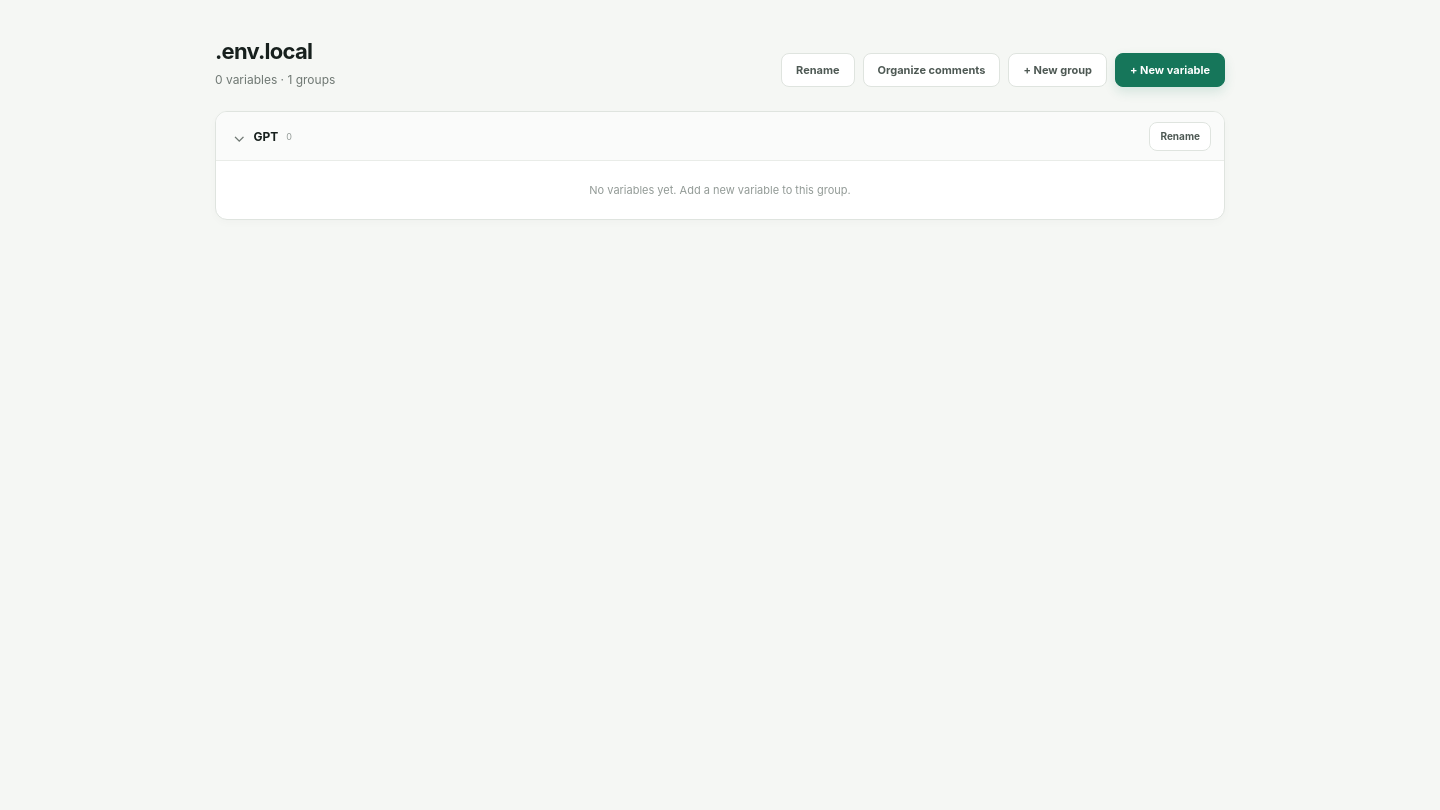
Test: FileEditor › renames a file through the in-app dialog
Check: the text "ENV FILE" is not shown
Click the button with aria-label "Rename env file" at x=818, y=70, box x1=781 y1=53 x2=854 y2=87
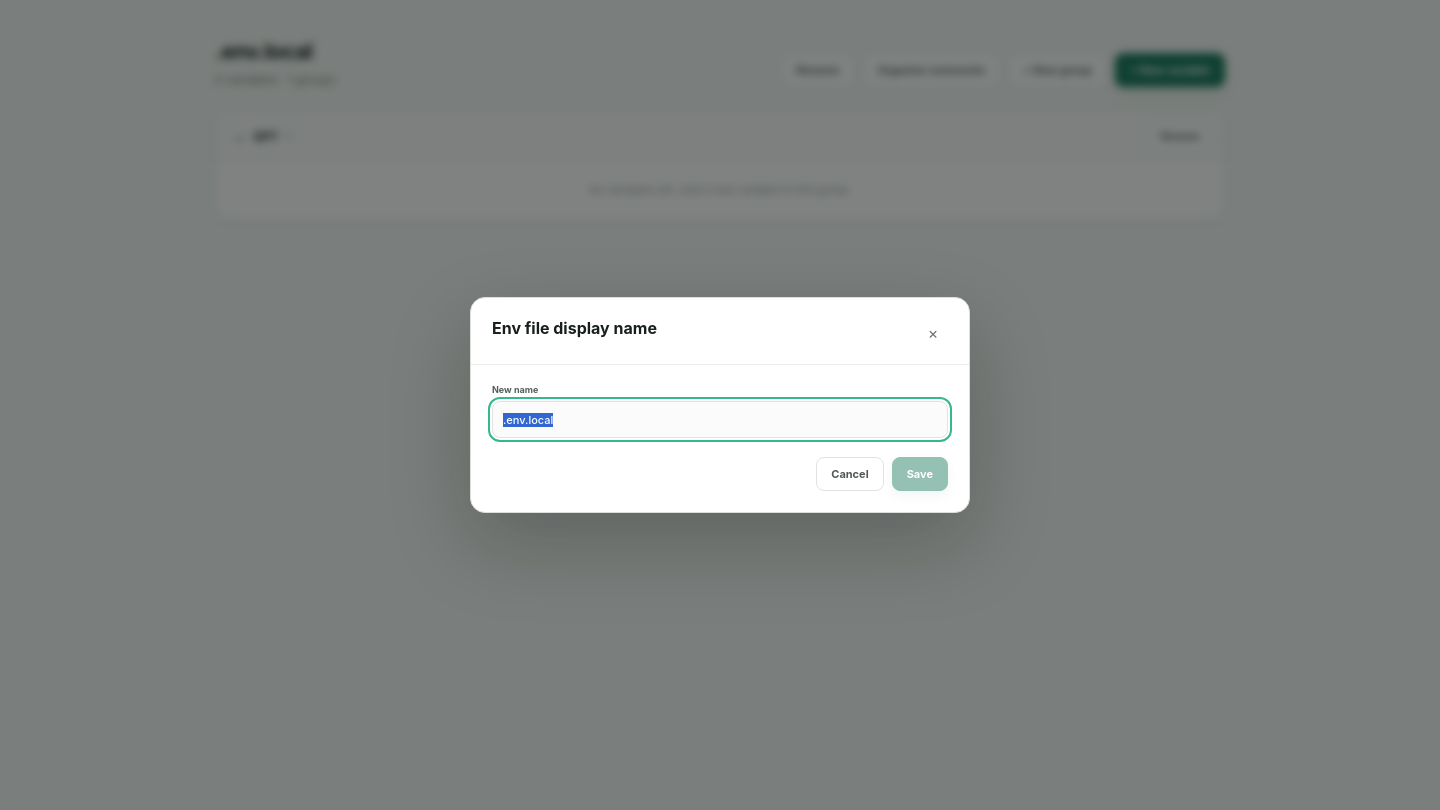
Check: the field labelled "New name" holds ".env.local"
Replace the text in the field labelled "New name" with "Local development" at x=720, y=420, box x1=492 y1=401 x2=948 y2=438
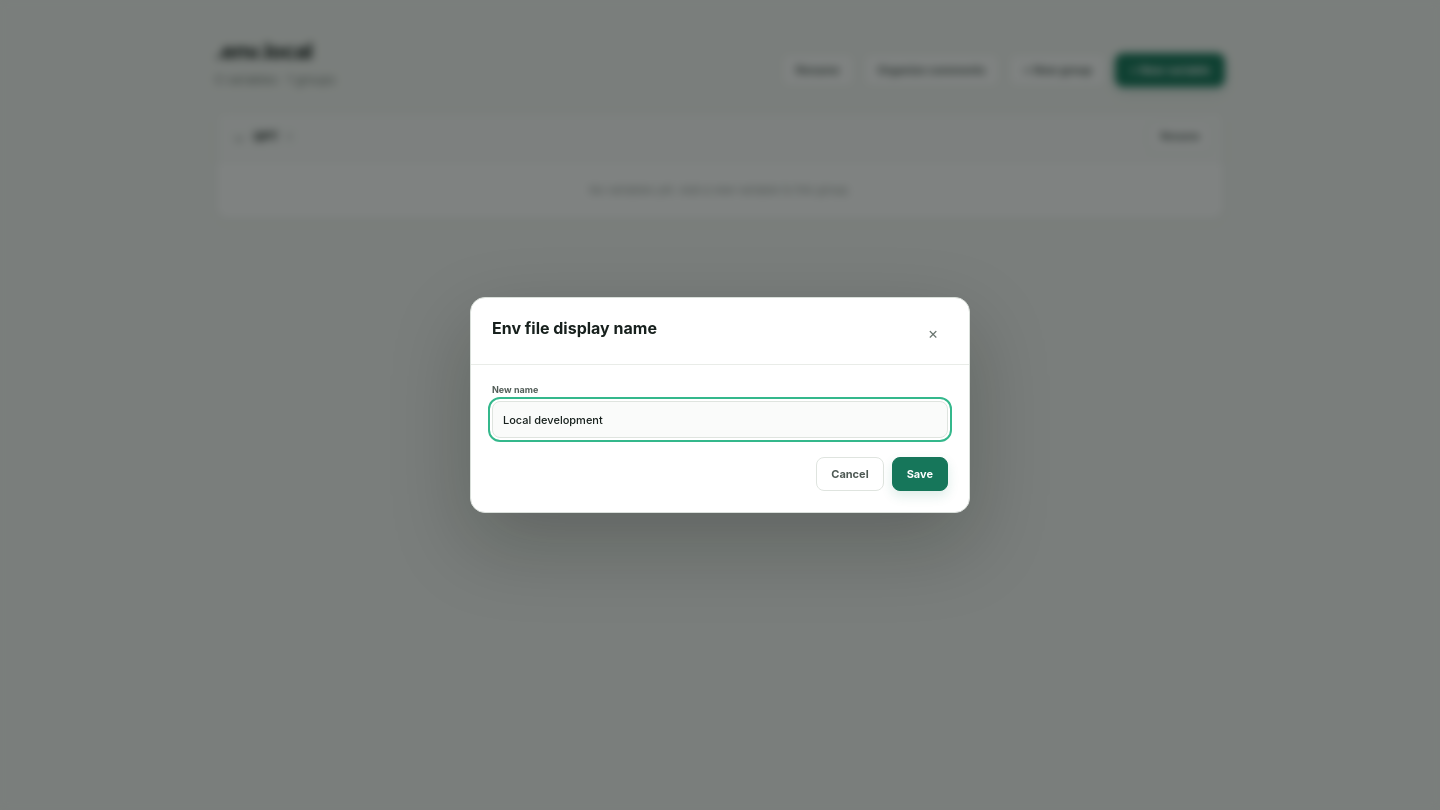
Click the button "Save" at x=920, y=474, box x1=892 y1=457 x2=948 y2=491
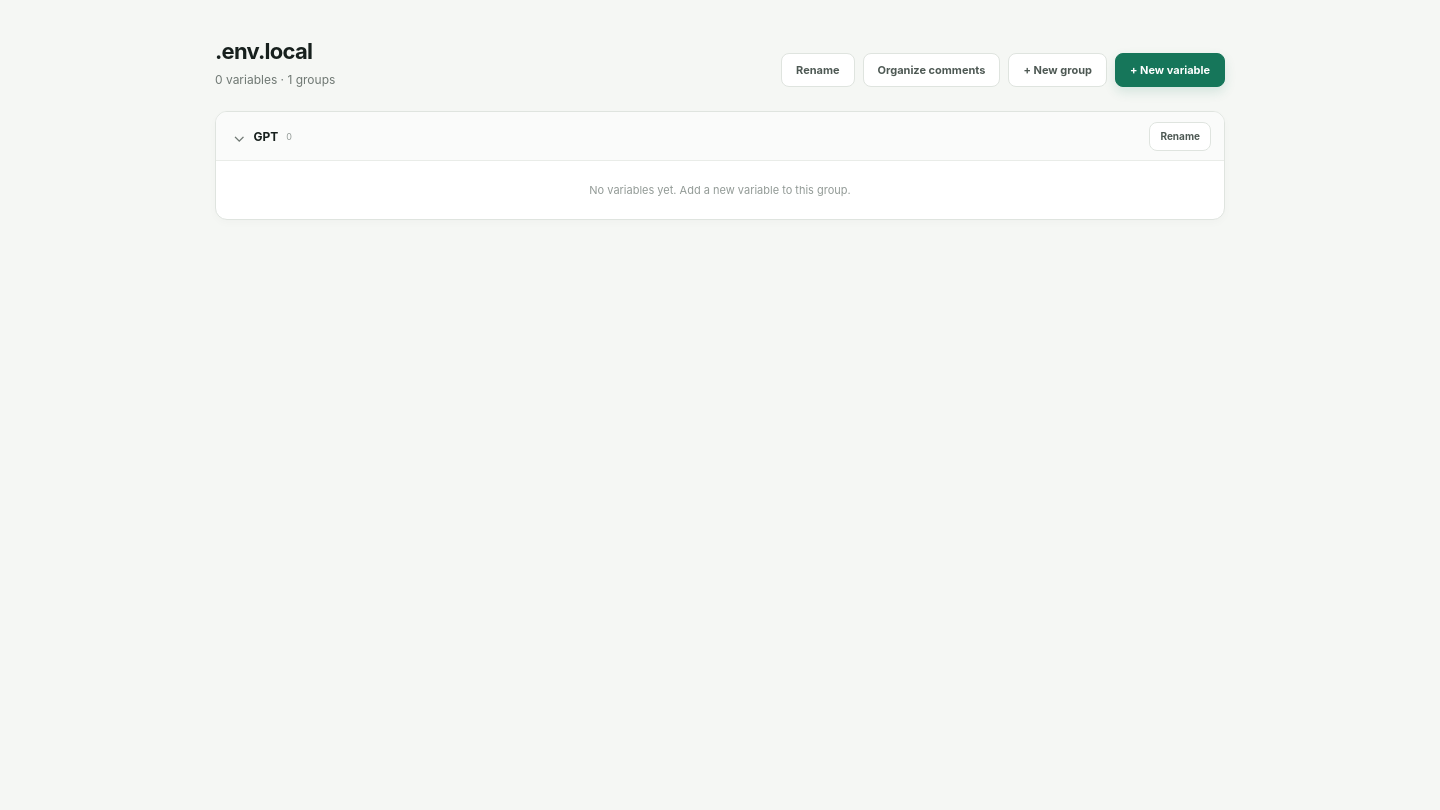
Check: the dialog is gone
